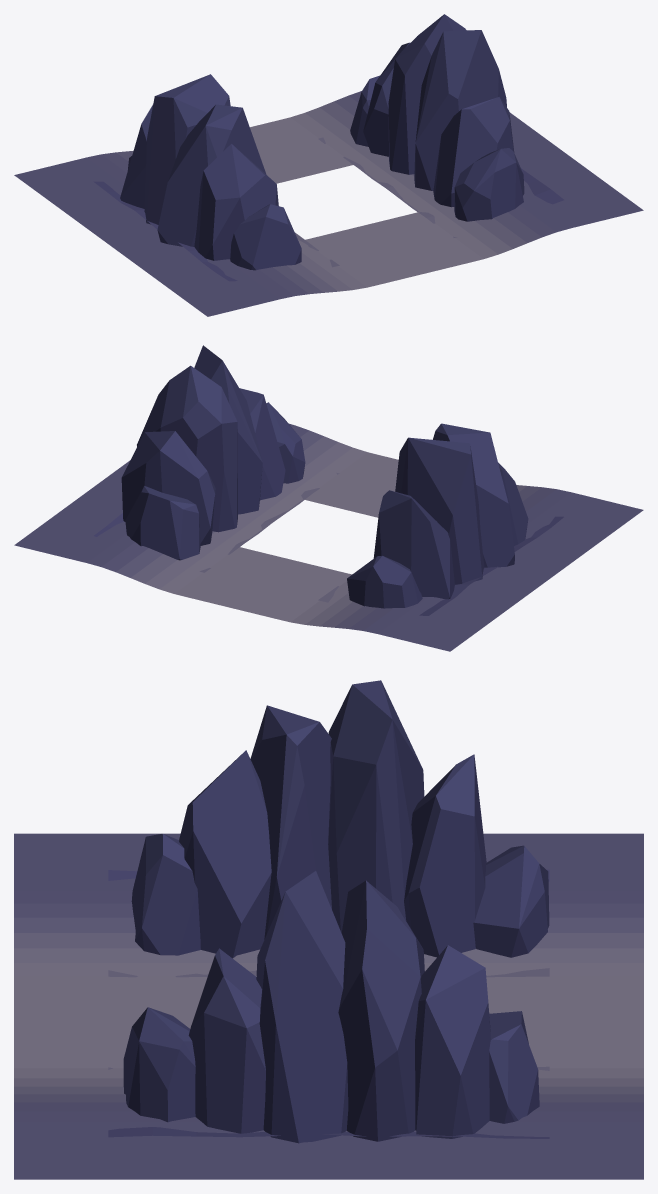
File: env_ridge_distant_a.glb
3 views of the same model, one above another, from view 1: azimuth 30°, elevation 25°; view 2: azimuth 150°, elevation 25°; view 3: azimuth 270°, elevation 25° (orthographic). The views are drawn at different scales.
Visible parts, largest first — view 1: valley_floor, ridge_peak_8, ridge_peak_2, ridge_peak_1, ridge_peak_3, ridge_peak_9, ridge_peak_7, ridge_peak_6, ridge_peak_0, ridge_peak_10, ridge_peak_4, valley_foothill_r (+2 smaller); view 2: valley_floor, ridge_peak_3, ridge_peak_9, ridge_peak_4, ridge_peak_10, ridge_peak_2, ridge_peak_11, ridge_peak_8, ridge_peak_5, ridge_peak_7, ridge_peak_6, ridge_peak_1 (+2 smaller); view 3: valley_floor, ridge_peak_8, ridge_peak_9, ridge_peak_3, ridge_peak_1, ridge_peak_10, ridge_peak_4, ridge_peak_2, ridge_peak_7, ridge_peak_6, ridge_peak_0, ridge_peak_5 (+3 smaller).
Boxes of the visible parts, box(x1,y1,x2,y2) form: valley_floor: box(14, 91, 643, 316); ridge_peak_8: box(414, 30, 506, 190); ridge_peak_2: box(157, 104, 266, 246); ridge_peak_1: box(194, 144, 278, 260); ridge_peak_3: box(144, 74, 230, 224); ridge_peak_9: box(388, 14, 466, 174); ridge_peak_7: box(433, 97, 514, 207); ridge_peak_6: box(454, 148, 524, 221); ridge_peak_0: box(230, 204, 301, 270); ridge_peak_10: box(363, 42, 410, 156); ridge_peak_4: box(120, 105, 152, 208); valley_foothill_r: box(318, 137, 563, 237); valley_floor: box(14, 423, 643, 651); ridge_peak_3: box(395, 437, 484, 584); ridge_peak_9: box(137, 365, 237, 532); ridge_peak_4: box(373, 490, 454, 599); ridge_peak_10: box(121, 431, 215, 545); ridge_peak_2: box(433, 423, 514, 567); ridge_peak_11: box(125, 486, 200, 560); ridge_peak_8: box(194, 345, 262, 514); ridge_peak_5: box(347, 555, 422, 608); ridge_peak_7: box(239, 388, 285, 500); ridge_peak_6: box(266, 402, 305, 483); ridge_peak_1: box(498, 462, 528, 545); valley_floor: box(14, 833, 643, 1179); ridge_peak_8: box(256, 871, 348, 1143); ridge_peak_9: box(338, 880, 424, 1141); ridge_peak_3: box(328, 680, 424, 932); ridge_peak_1: box(179, 750, 271, 958); ridge_peak_10: box(415, 945, 490, 1138); ridge_peak_4: box(404, 754, 486, 957); ridge_peak_2: box(250, 705, 331, 939); ridge_peak_7: box(188, 948, 265, 1133); ridge_peak_6: box(123, 1007, 195, 1122); ridge_peak_0: box(131, 833, 200, 955); ridge_peak_5: box(473, 845, 549, 957).
Bounding box in the file's own units: 104 × 35.8 × 80.
